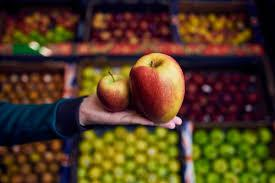apple: (133, 49, 182, 118), (91, 72, 130, 110)
